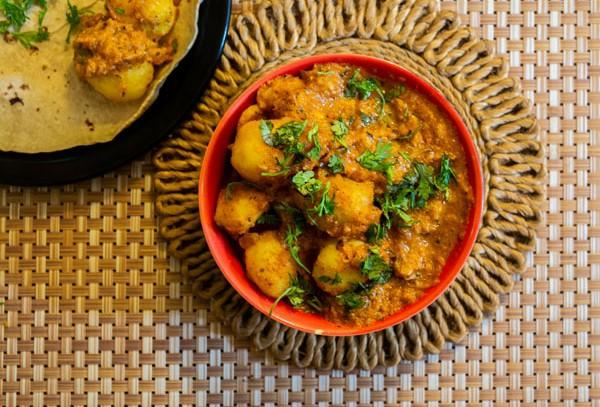DumAloo: (215, 63, 470, 324)
